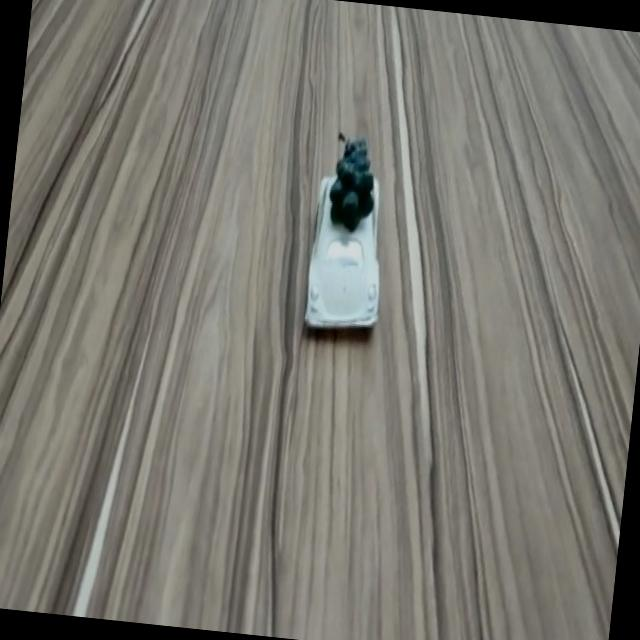car: (298, 173, 393, 329)
